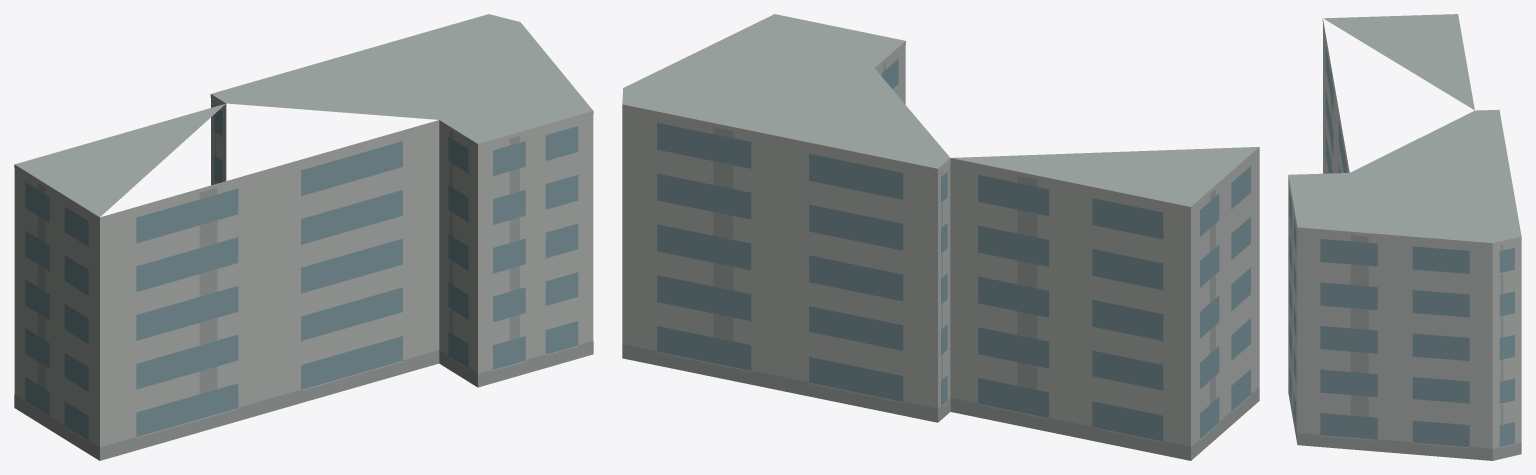
The model's file is residential-bb01c5ea-1599-4d1c-9f25-6e84b0c1f4af.glb.
The picture shows the model from 3 angles, left to right: view 1: azimuth 30°, elevation 25°; view 2: azimuth 150°, elevation 25°; view 3: azimuth 270°, elevation 25°; orthographic projection. The views are drawn at different scales.
Parts seen in each view (by area): view 1: residential-bb01c5ea-1599-4d1c-9f25-6e84b0c1f4af.tmp; view 2: residential-bb01c5ea-1599-4d1c-9f25-6e84b0c1f4af.tmp; view 3: residential-bb01c5ea-1599-4d1c-9f25-6e84b0c1f4af.tmp.
Part boxes in pixels (x1,y1,x2,y2): residential-bb01c5ea-1599-4d1c-9f25-6e84b0c1f4af.tmp: (14, 14, 593, 460); residential-bb01c5ea-1599-4d1c-9f25-6e84b0c1f4af.tmp: (622, 14, 1259, 460); residential-bb01c5ea-1599-4d1c-9f25-6e84b0c1f4af.tmp: (1288, 14, 1521, 460).
Size of the model in its own units: 34.44 by 15.25 by 14.82.
